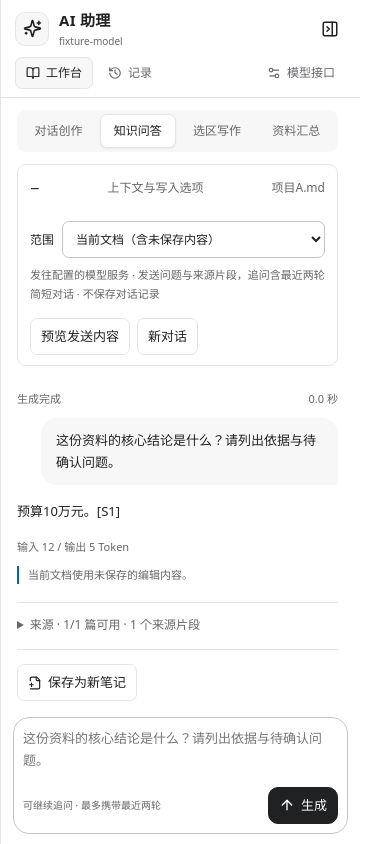
Test case: AI workspace › keeps citations, navigates by source and passes exports through the existing creation guard
Earlier steps of the test are not shown.
Click the button "保存为新笔记": (77,683) [17, 664, 137, 701]
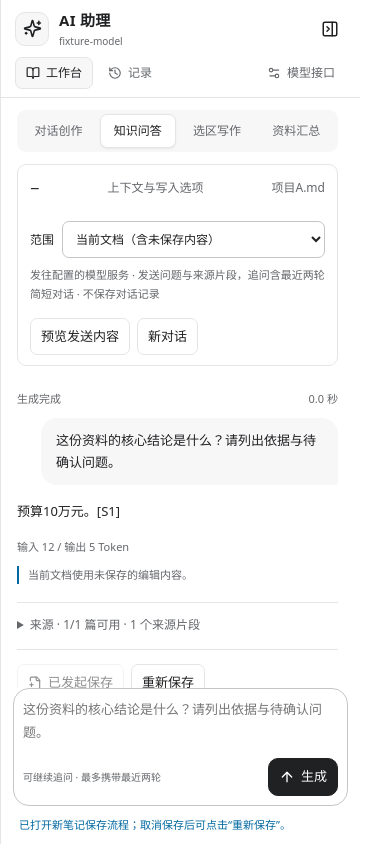
Check: the button "已发起保存" is disabled, box [17, 664, 124, 688]
